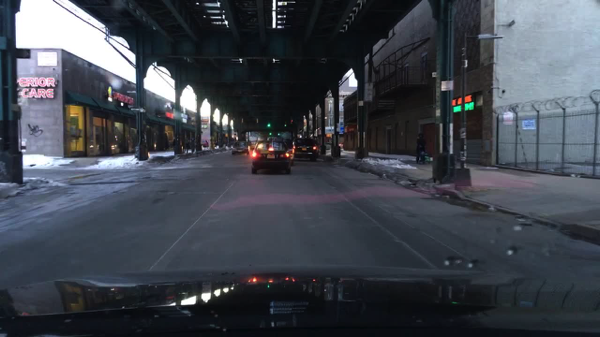car: (250, 139, 292, 175), (266, 136, 296, 166), (293, 136, 321, 162), (231, 141, 249, 156), (249, 140, 258, 150), (323, 143, 331, 150), (202, 140, 209, 147), (339, 140, 344, 149)
person: (414, 131, 425, 163), (184, 140, 191, 154), (190, 138, 195, 154), (172, 138, 177, 153), (213, 139, 218, 149)
traffic light: (266, 120, 272, 128), (283, 120, 287, 128)
traffic sign: (14, 48, 31, 59), (440, 81, 453, 92), (130, 106, 145, 114)
